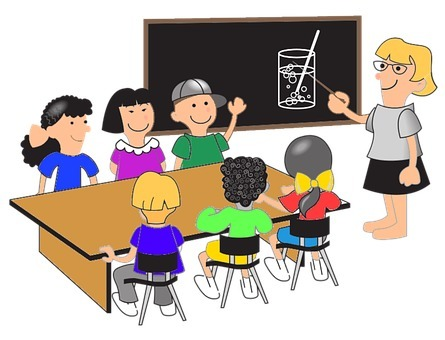chair: (120, 250, 186, 326), (204, 232, 266, 309), (276, 214, 338, 290)
diningtable: (5, 153, 354, 320)
person: (328, 33, 438, 244), (252, 133, 343, 285), (98, 170, 186, 317), (191, 154, 273, 301), (17, 93, 102, 195), (168, 78, 250, 171), (101, 87, 167, 182)
